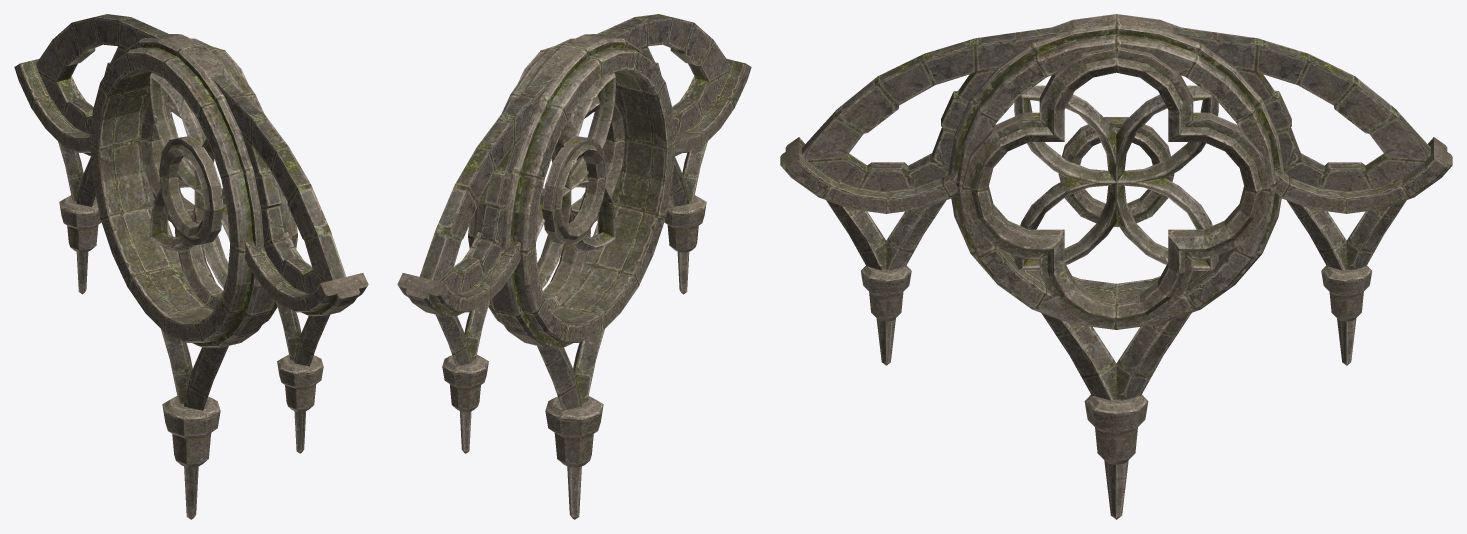
Rendered from bg_lut_lutomb_structure04_sm_old.FBX.
3 views of the same model, side by side, from view 1: azimuth 30°, elevation 25°; view 2: azimuth 150°, elevation 25°; view 3: azimuth 270°, elevation 25° (orthographic). The views are drawn at different scales.
Visible parts, largest first — view 1: bg_lut_lutomb_structure04_sm_old; view 2: bg_lut_lutomb_structure04_sm_old; view 3: bg_lut_lutomb_structure04_sm_old.
Boxes of the visible parts, x1,y1,x2,y2 form: bg_lut_lutomb_structure04_sm_old: (14,14,368,519); bg_lut_lutomb_structure04_sm_old: (397,14,751,519); bg_lut_lutomb_structure04_sm_old: (780,14,1452,519).
Bounding box in the file's own units: 78.42 × 538 × 654.
